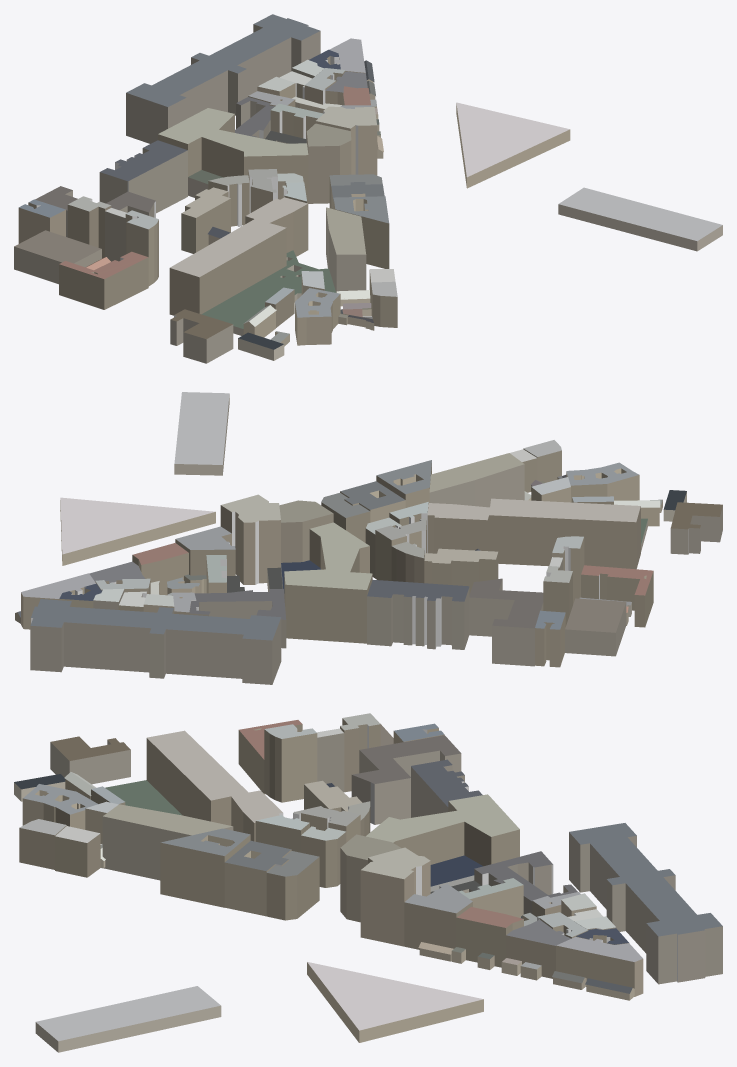
The picture shows the model from 3 angles, top to bottom: view 1: azimuth 30°, elevation 25°; view 2: azimuth 150°, elevation 25°; view 3: azimuth 270°, elevation 25°; orthographic projection. The views are drawn at different scales.
Parts seen in each view (by area): view 1: tuile; view 2: tuile; view 3: tuile.
Boxes of the visible parts, left/top/right/bottom form: tuile: left=14, top=14, right=722, bottom=363; tuile: left=15, top=392, right=722, bottom=684; tuile: left=14, top=713, right=722, bottom=1052.
Size of the model in its own units: 290 by 31.89 by 283.
